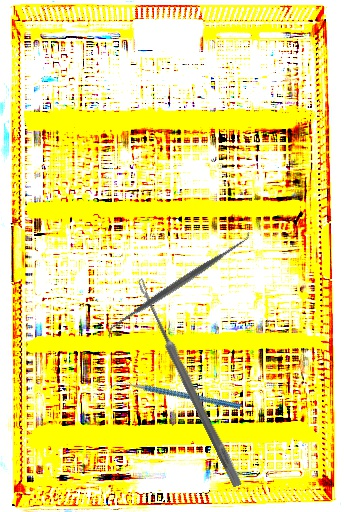Chopper: (108, 342, 243, 452)
Spatula Surgical: (99, 228, 258, 341)
Surgical Spoon: (133, 277, 244, 488)
